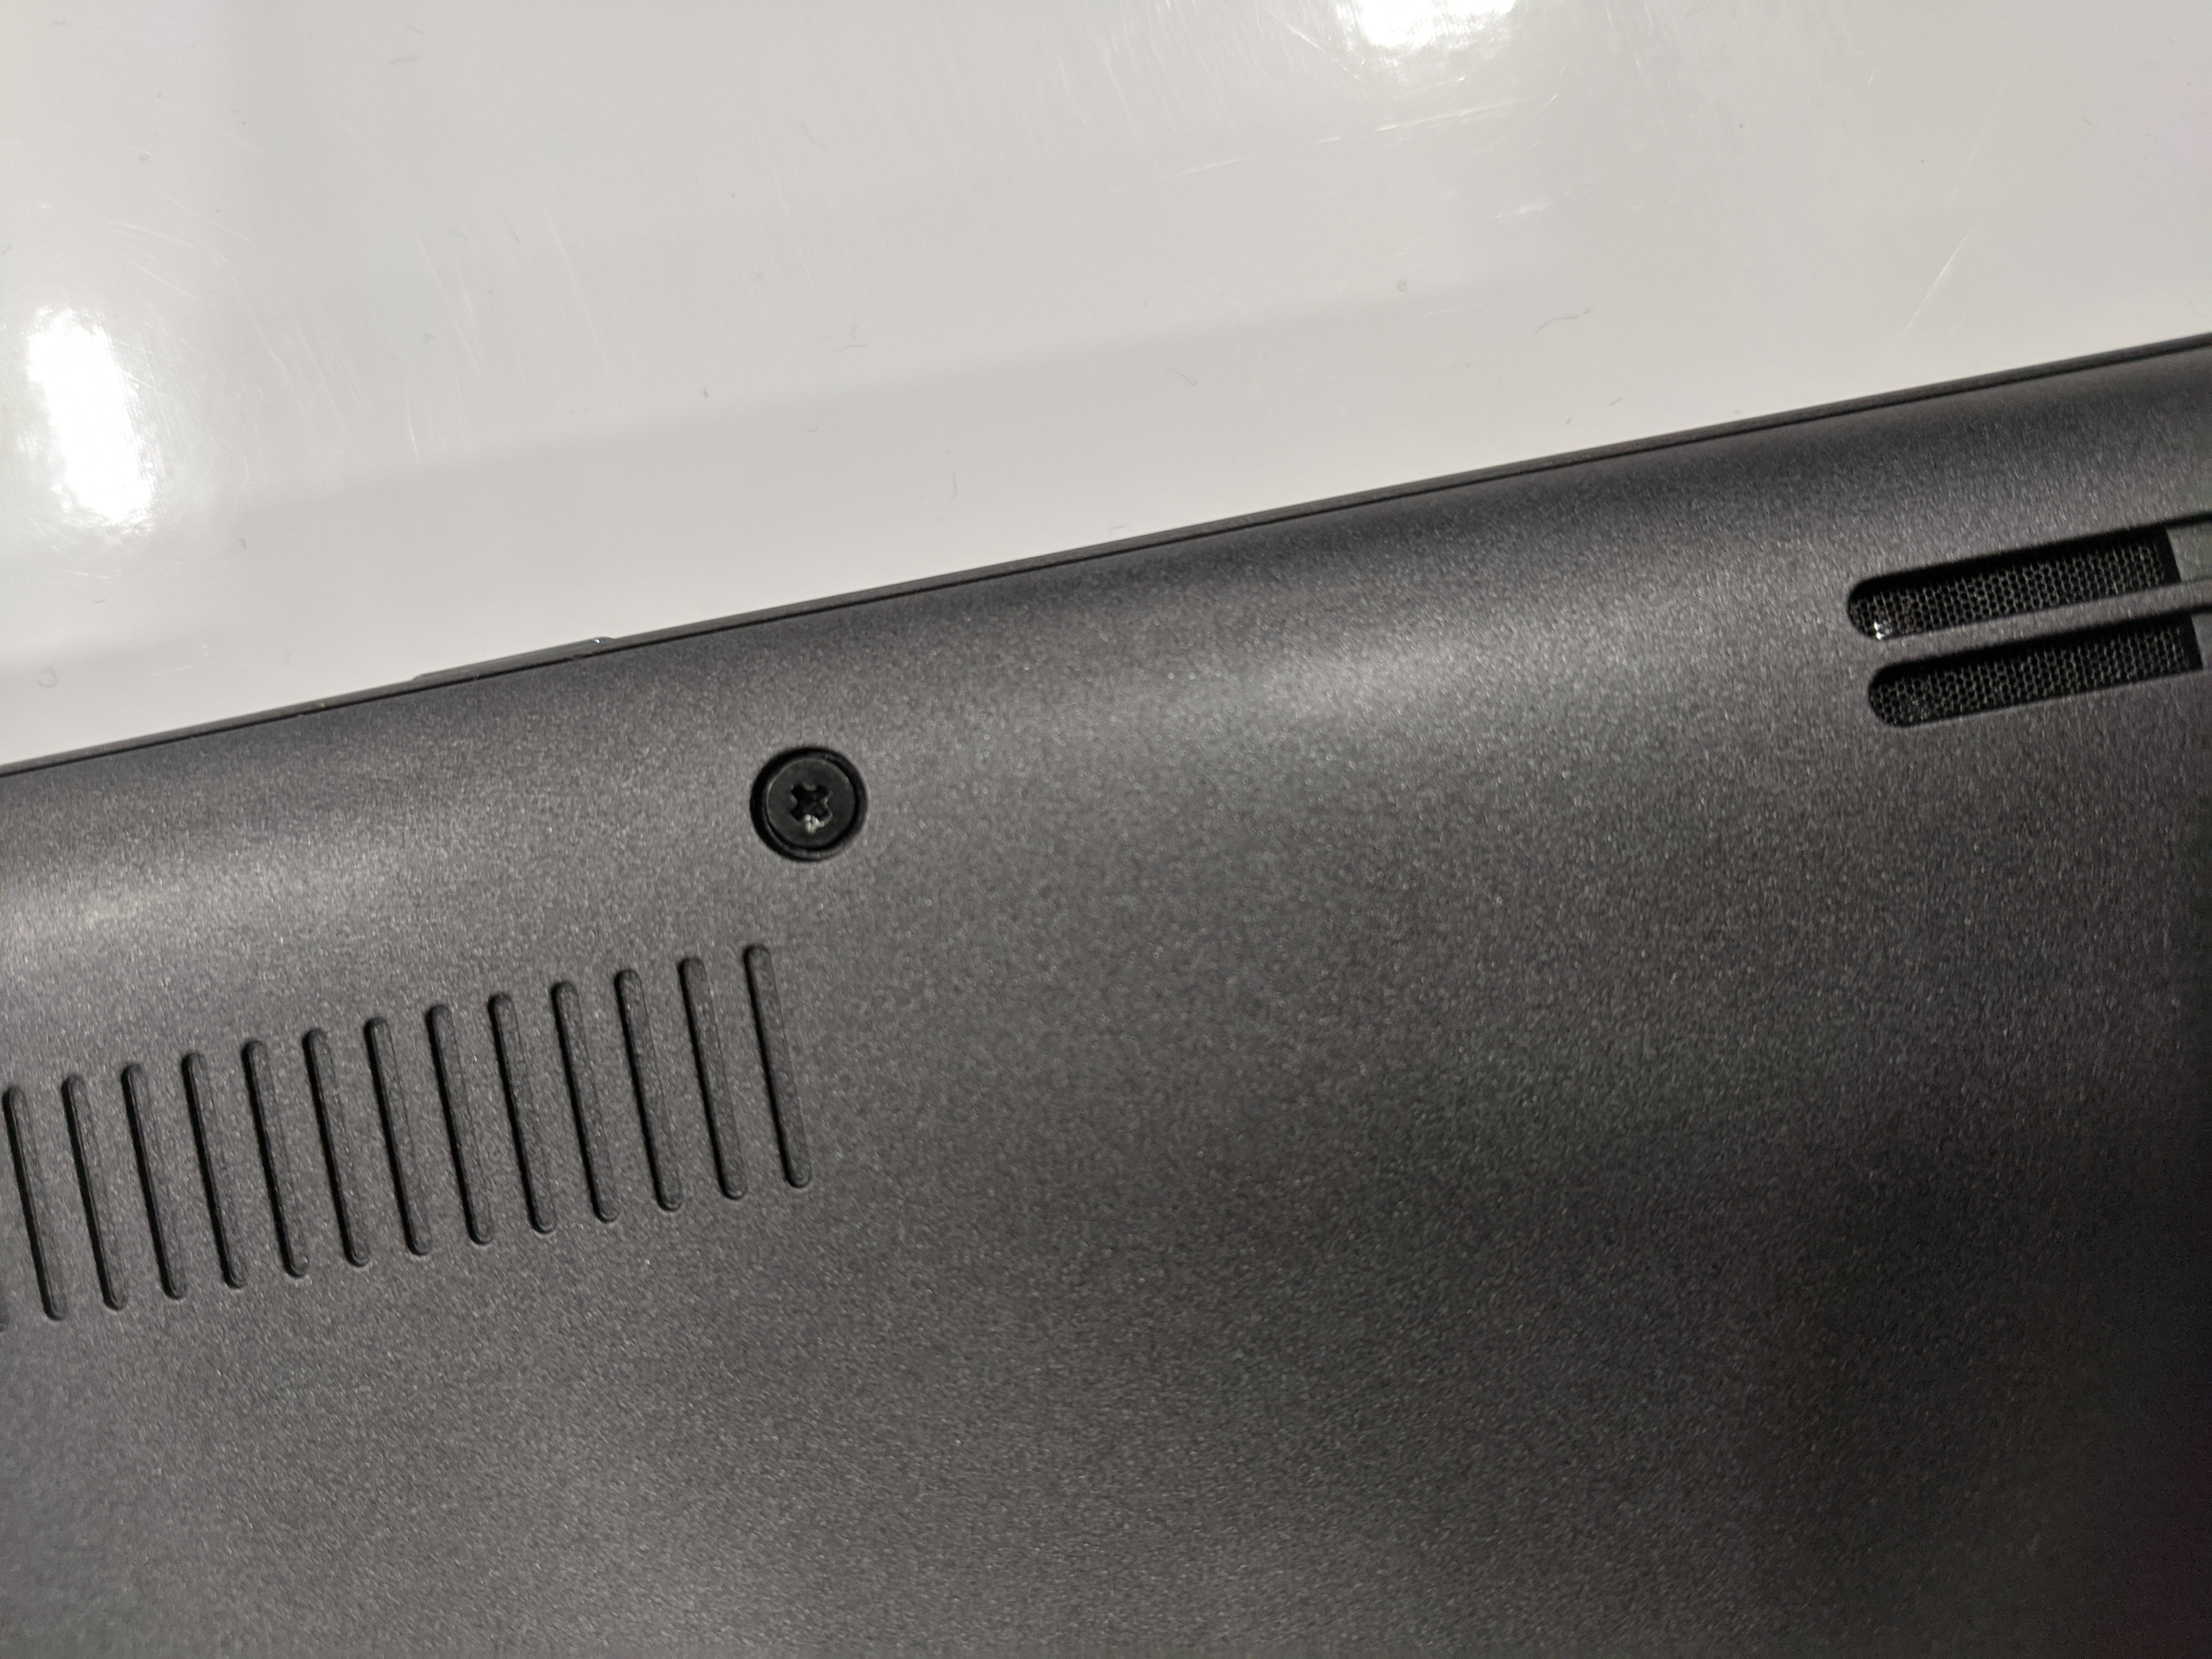cross_recessed_screw: (749, 735, 869, 861)
